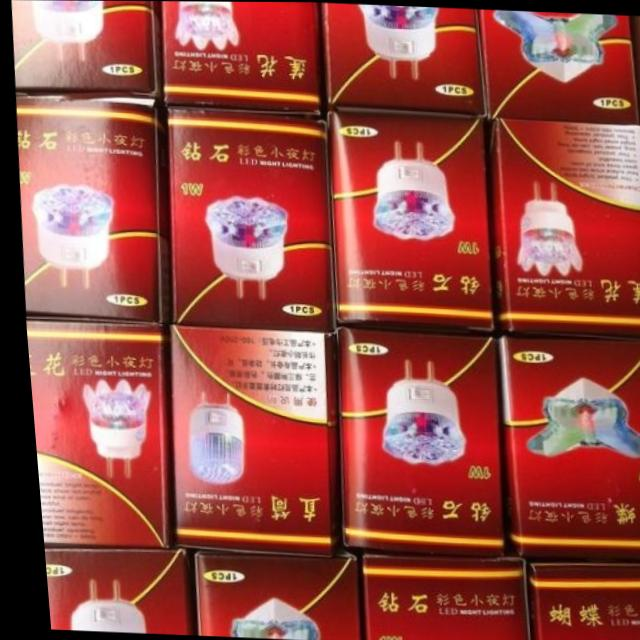box: (164, 324, 331, 555), (331, 324, 495, 556), (165, 107, 330, 332), (325, 110, 488, 331), (484, 117, 640, 336), (491, 335, 640, 559), (14, 94, 157, 323), (21, 316, 161, 548), (320, 2, 483, 116), (479, 8, 637, 122), (161, 1, 318, 113), (184, 547, 350, 640), (11, 0, 160, 98), (352, 554, 519, 640), (35, 547, 181, 633), (519, 561, 640, 640)
